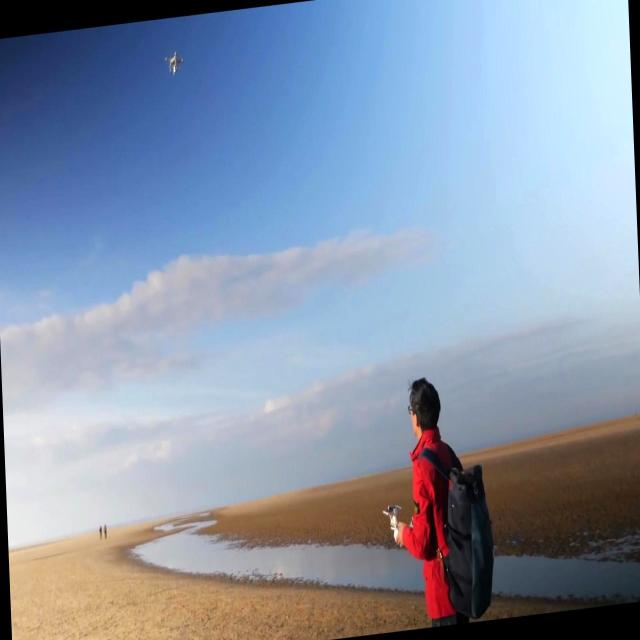drone: (163, 49, 185, 75)
